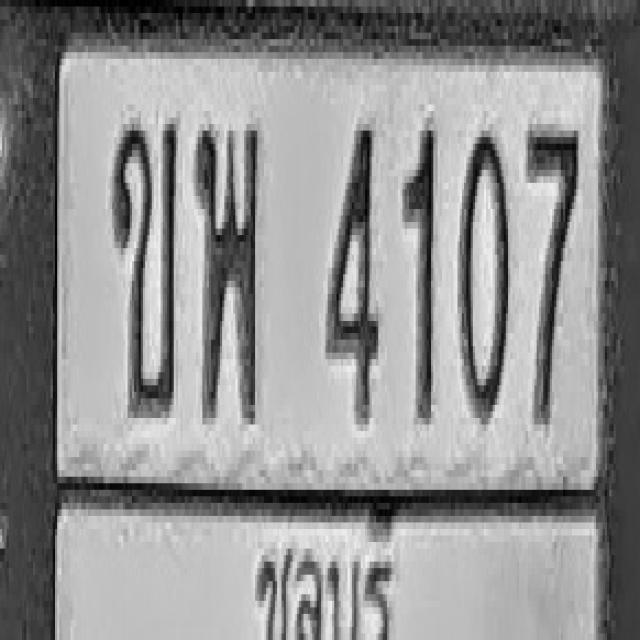0: (459, 128, 509, 422)
1: (404, 121, 434, 421)
11KhorKhai: (111, 114, 177, 415)
39PhorPan: (194, 121, 258, 421)
4: (326, 121, 378, 421)
7: (526, 121, 578, 421)
Chonburi: (249, 498, 401, 640)
